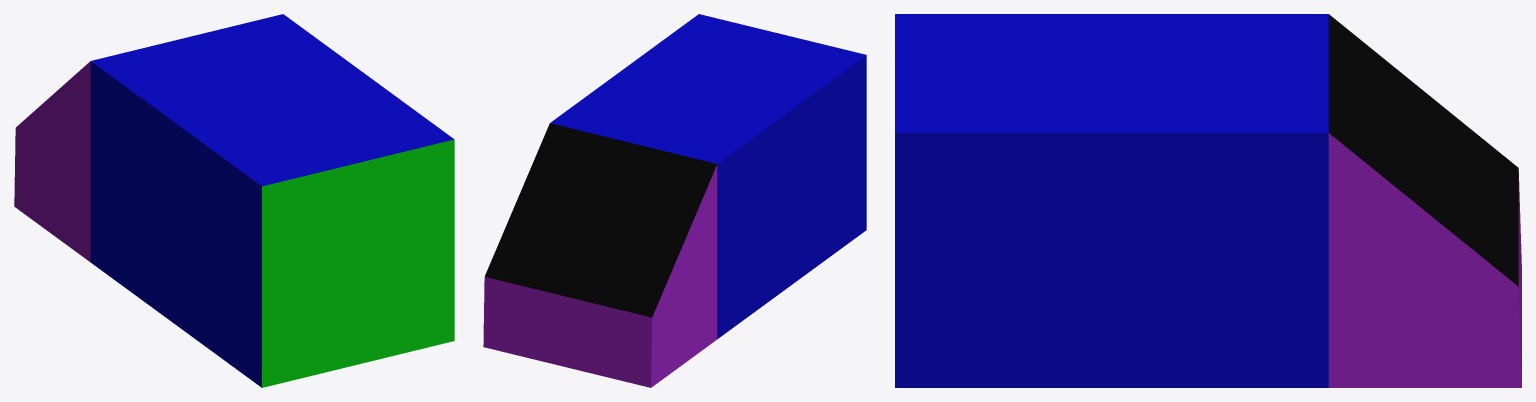
File: player.obj
The picture shows the model from 3 angles, left to right: view 1: azimuth 30°, elevation 25°; view 2: azimuth 150°, elevation 25°; view 3: azimuth 270°, elevation 25°; orthographic projection. The views are drawn at different scales.
Visible parts, largest first — view 1: Cube; view 2: Cube; view 3: Cube.
Boxes of the visible parts, <box> form: Cube: <box>14,14,454,387</box>; Cube: <box>483,14,866,387</box>; Cube: <box>895,14,1521,387</box>.
Bounding box in the file's own units: 2 × 2 × 4.46.
